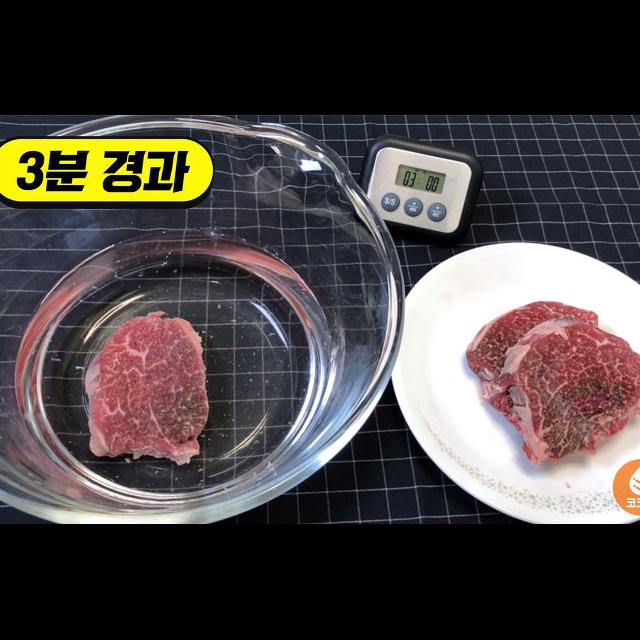beef: (466, 299, 640, 465), (84, 310, 211, 467)
